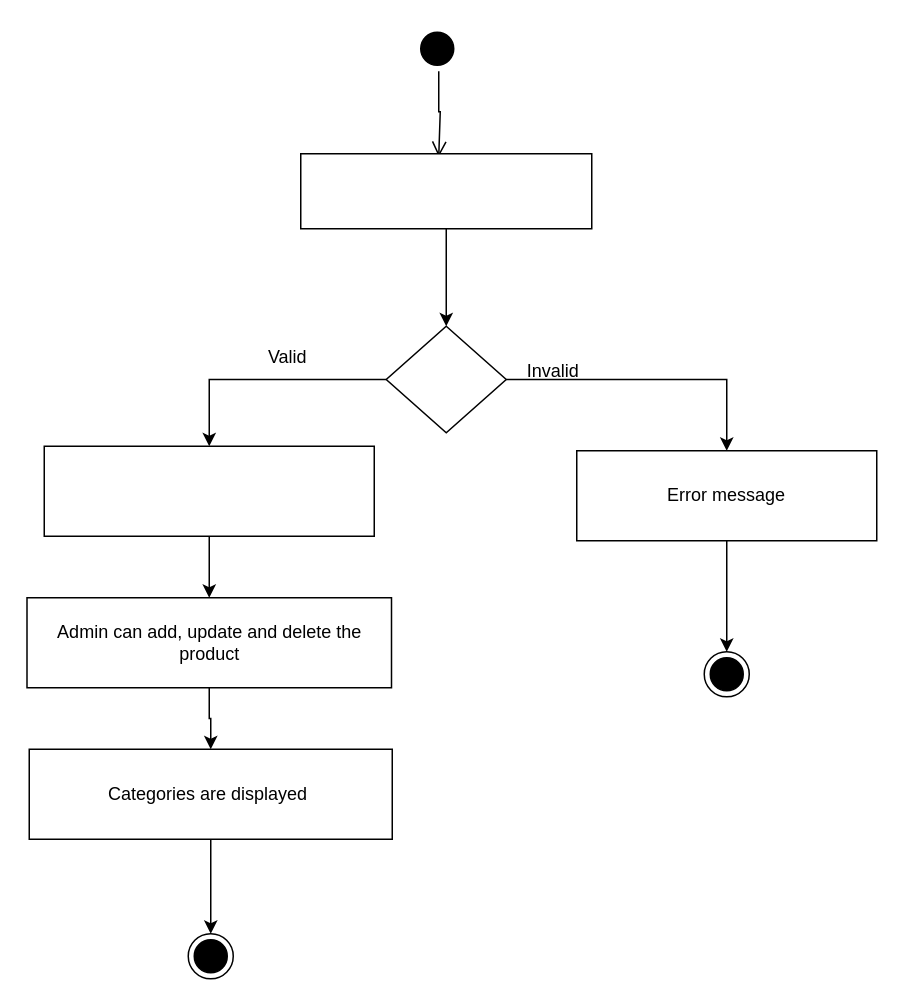
The diagram is 903 pixels wide and 1005 high, and some of its shapes have lost their labels. The shapes that lost their labels are listed below. From the top down, each one's centre as x and y in pixels, then its label:
At (x=445, y=190): "Enter Admins ID and Password".
At (x=208, y=490): "Admin Panel is Displayed".
